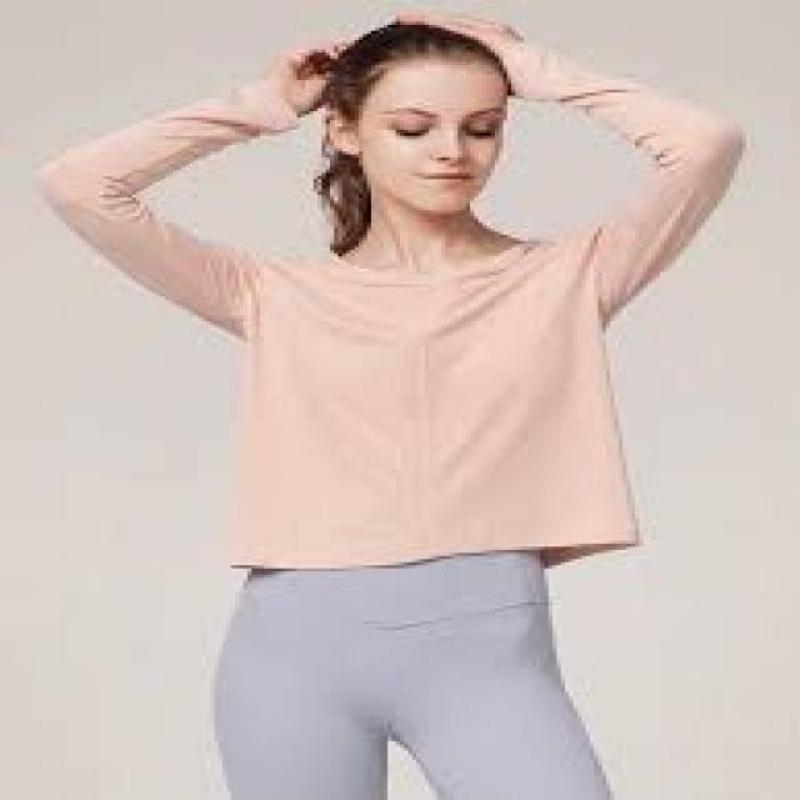long sleeve shirt: (33, 38, 747, 576), (209, 551, 616, 800)
